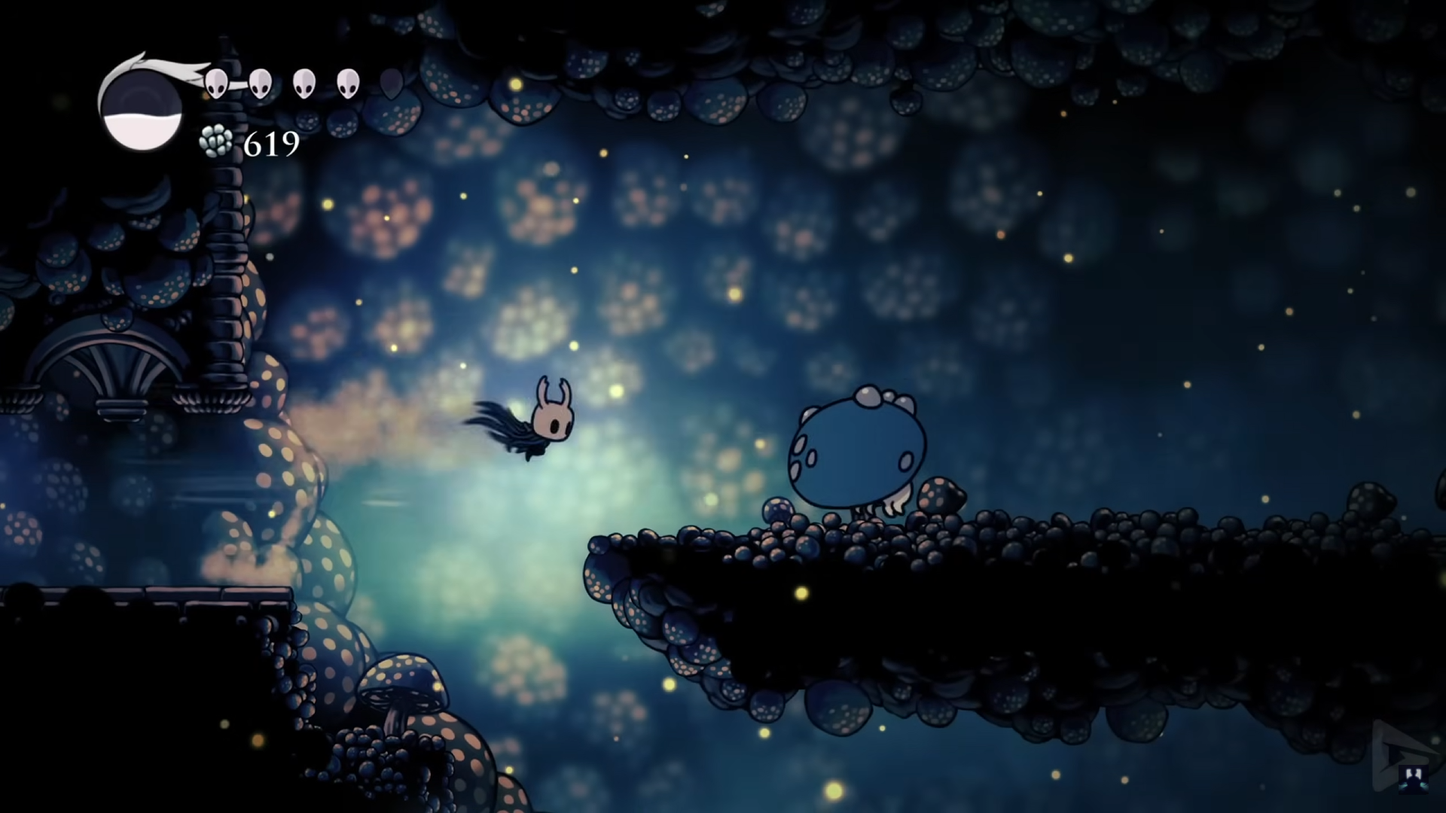HK: (512, 371, 578, 467)
